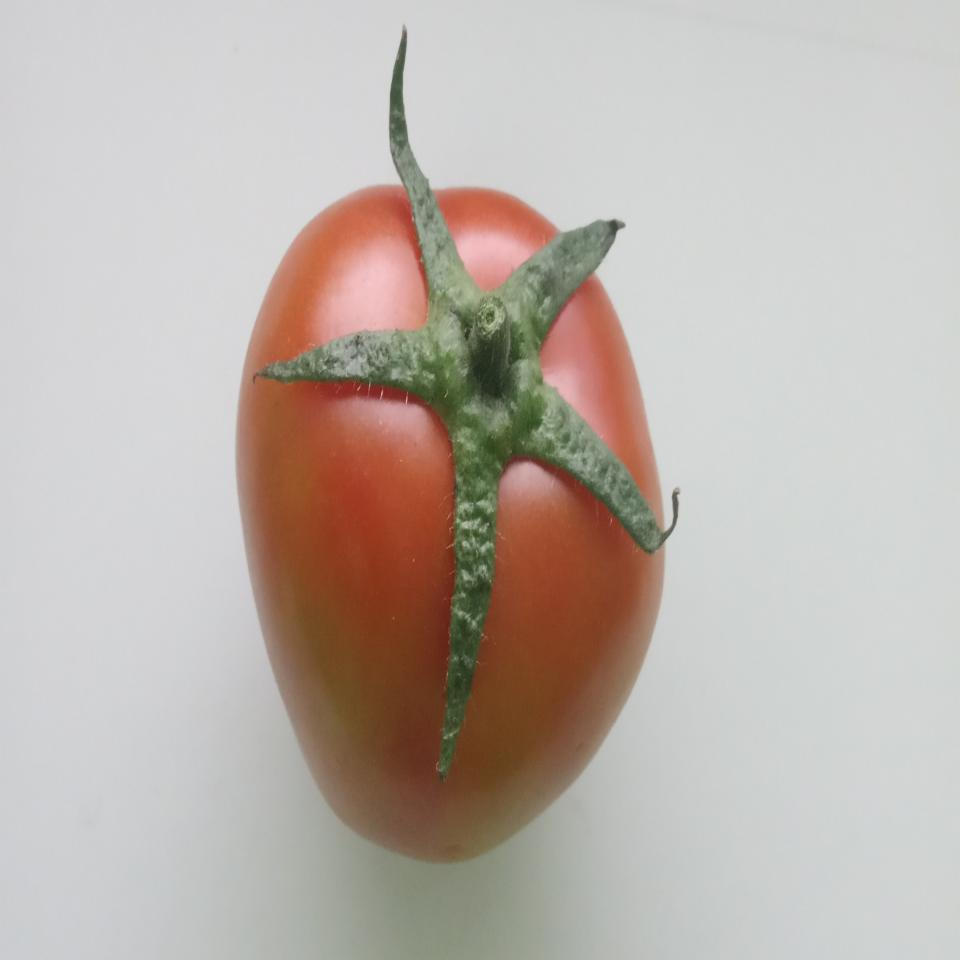Healthy: (227, 164, 682, 879)
